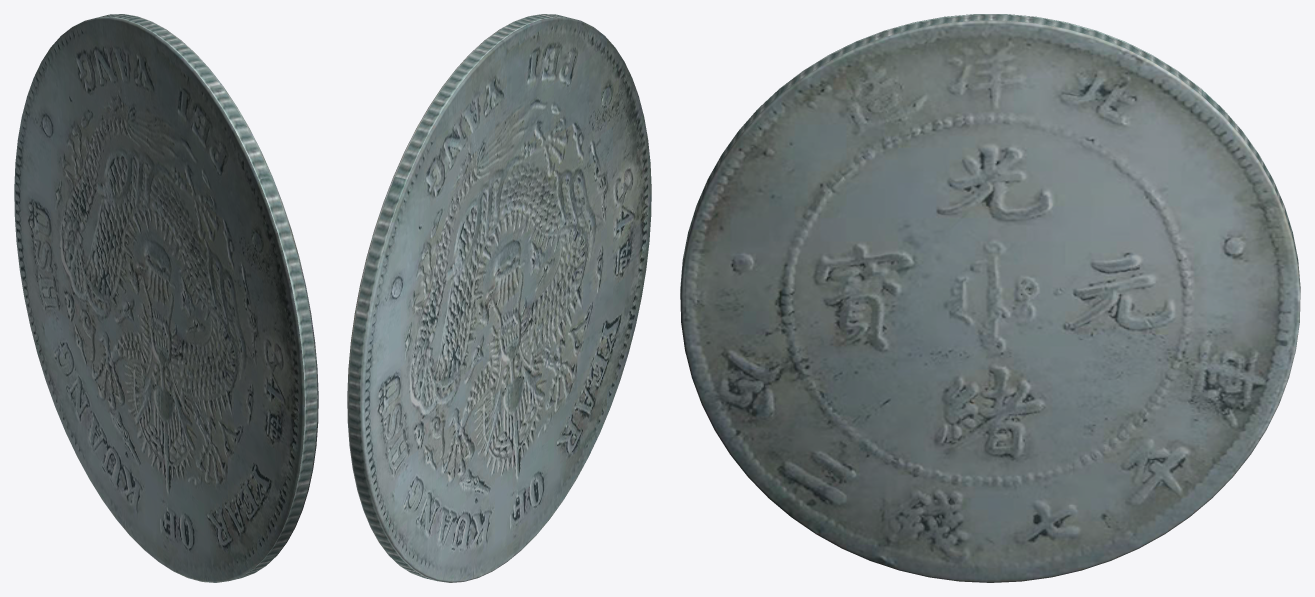
3 views of the same model, side by side, from view 1: azimuth 30°, elevation 25°; view 2: azimuth 150°, elevation 25°; view 3: azimuth 270°, elevation 25° (orthographic). The views are drawn at different scales.
Visible parts, largest first — view 1: 圆柱; view 2: 圆柱; view 3: 圆柱.
Boxes of the visible parts, box(x1,y1,x2,y2) form: 圆柱: box(14, 14, 318, 582); 圆柱: box(347, 14, 651, 582); 圆柱: box(680, 14, 1300, 582).
Bounding box in the file's own units: 3.31 × 99.94 × 99.97.
1 material, 1 textured.
